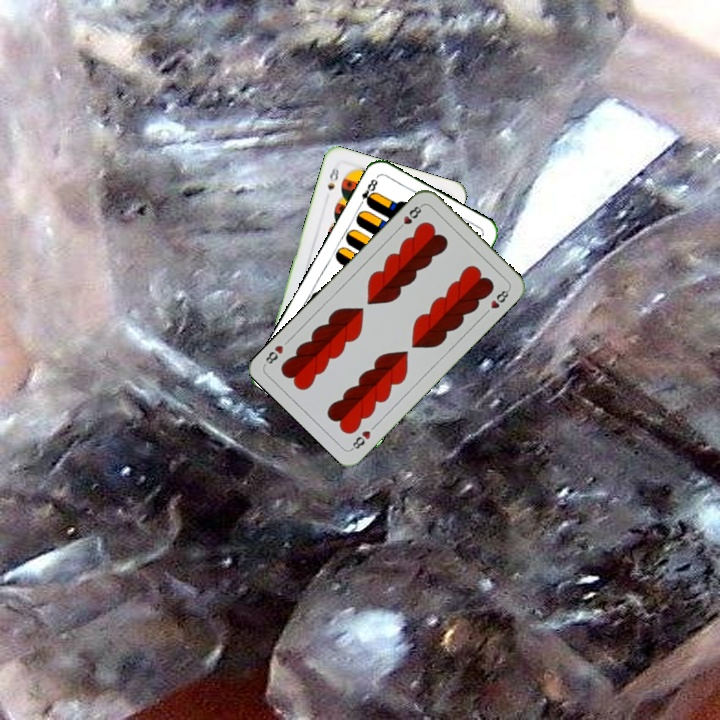E8: (355, 173, 381, 210)
H8: (393, 201, 425, 233), (347, 427, 373, 452)
S8: (323, 163, 342, 192)
